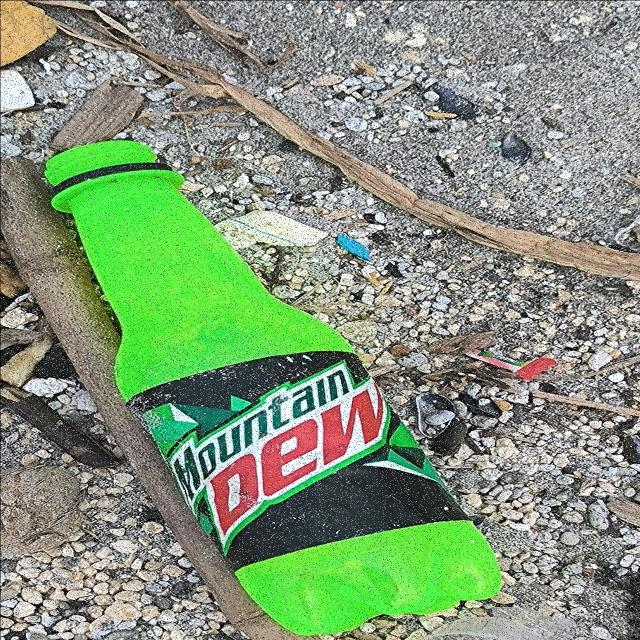plastic_waste: (39, 140, 507, 634)
